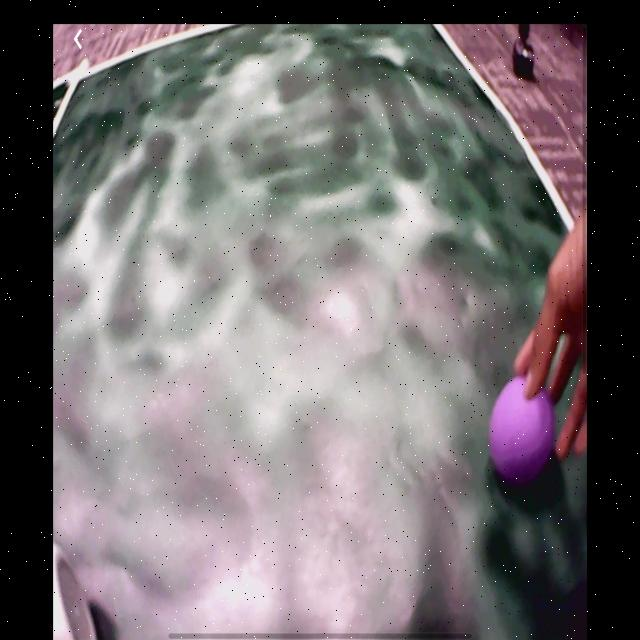ball: (490, 378, 558, 486)
